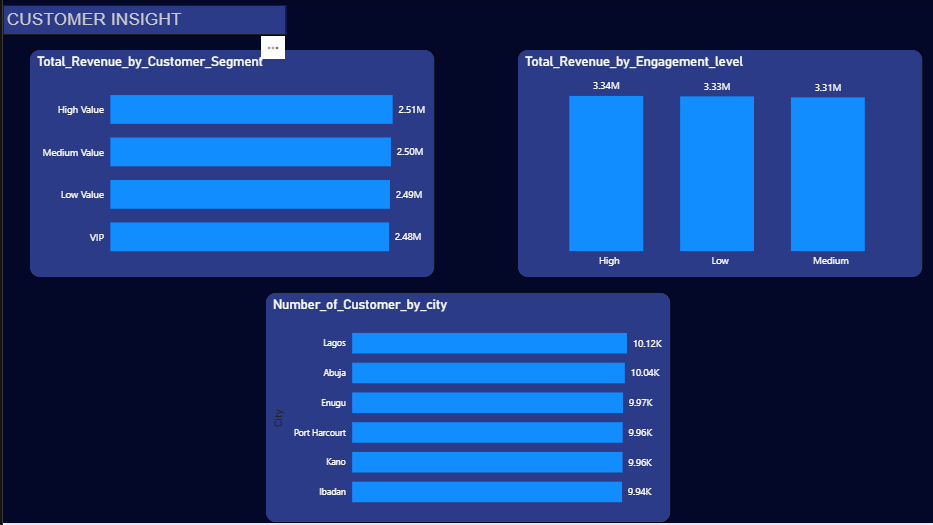

Layout of this report page (visuals, bound fields, positions):
{"tool":"powerbi","page":{"name":"Customer insight","canvas":[1280,720],"ordinal":1},"visuals":[{"type":"clusteredBarChart","title":"Total_Revenue_by_Customer_Segment","fields":{"Category":["opay_analysis dashboard.Customer_Segment"],"Y":["Sum(opay_analysis dashboard.Revenue)"]},"box":[50.9,26.2,558.8,334.5],"z":0},{"type":"clusteredColumnChart","title":"Total_Revenue_by_Engagement_level","fields":{"Y":["Sum(opay_analysis dashboard.Revenue)"],"Category":["opay_analysis dashboard.Engagement_Level"]},"box":[695.1,26.2,558.8,334.5],"z":1000},{"type":"clusteredBarChart","title":"Number_of_Customer_by_city","fields":{"Category":["opay_analysis dashboard.City"],"Y":["CountNonNull(opay_analysis dashboard.Transaction_ID)"]},"box":[360.6,385.4,558.8,334.5],"z":2000}]}

Visuals, with their boxes in screenshot pixels (x1, y1, x2, y2), scaled from the page's 1280x720 canvas onto the 933x525 screenshot:
"Total_Revenue_by_Customer_Segment" clusteredBarChart: [37, 19, 444, 263]
"Total_Revenue_by_Engagement_level" clusteredColumnChart: [507, 19, 914, 263]
"Number_of_Customer_by_city" clusteredBarChart: [263, 281, 670, 524]
